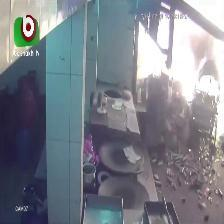fire: (180, 1, 224, 154), (137, 22, 198, 115)
